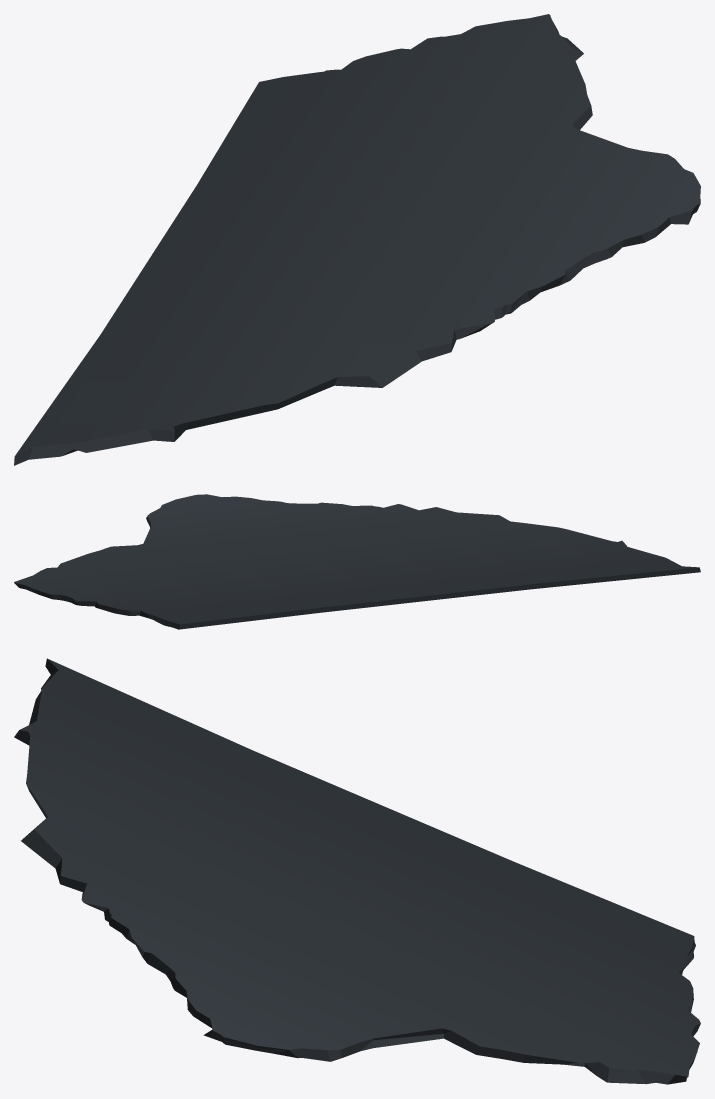
Rendered from Road Model Chunk4.fbx.
3 renders of one model, top to bottom at view 1: azimuth 30°, elevation 25°; view 2: azimuth 150°, elevation 25°; view 3: azimuth 270°, elevation 25°, orthographic. The views are drawn at different scales.
Parts seen in each view (by area): view 1: Road Chunk 4; view 2: Road Chunk 4; view 3: Road Chunk 4.
Boxes of the visible parts, x1,y1,x2,y2 form: Road Chunk 4: (14, 14, 700, 465); Road Chunk 4: (14, 494, 700, 629); Road Chunk 4: (14, 658, 700, 1084).
Bounding box in the file's own units: 10327 × 102 × 7150.
